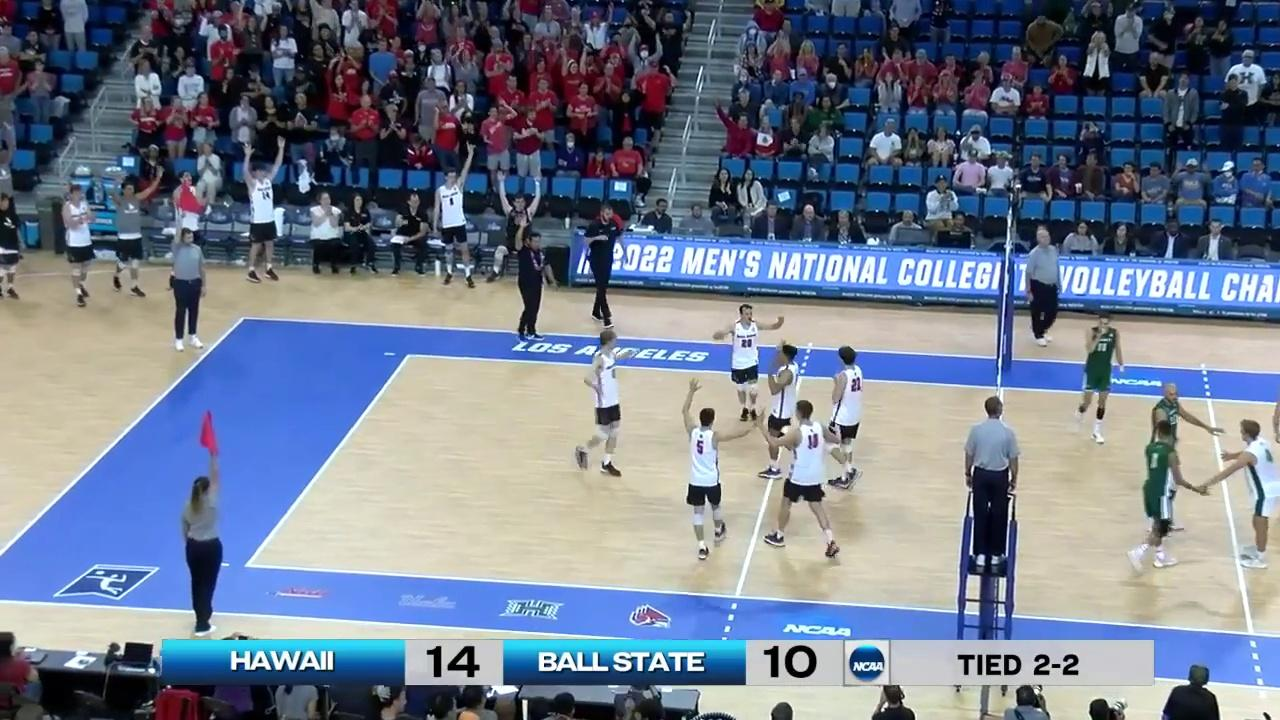player: (764, 400, 848, 561), (1128, 422, 1195, 573), (1216, 419, 1280, 568), (1149, 383, 1202, 534), (682, 400, 728, 558), (715, 304, 775, 425), (575, 333, 624, 474), (1072, 313, 1124, 443), (824, 346, 870, 491), (761, 344, 804, 477)
refree: (958, 396, 1021, 569), (176, 441, 226, 636), (169, 227, 209, 350), (1024, 229, 1064, 348)
